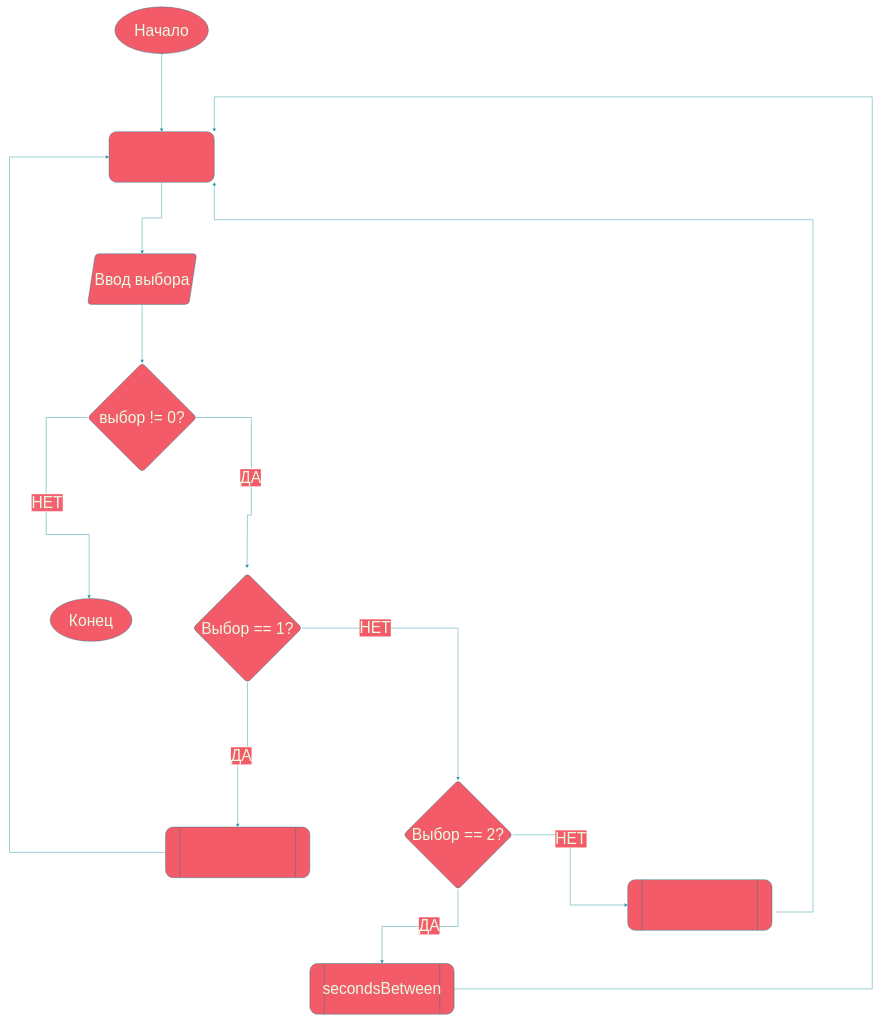
This 882x1021 diagram has some shape labels left out. The shapes that lost their labels are listed below. From the top down, each one's centre as x and y in pixels, then its label:
At point (161, 156): "Вывод меню".
At point (237, 852): "subtractSeconds".
At point (699, 904): "demonstrate".
